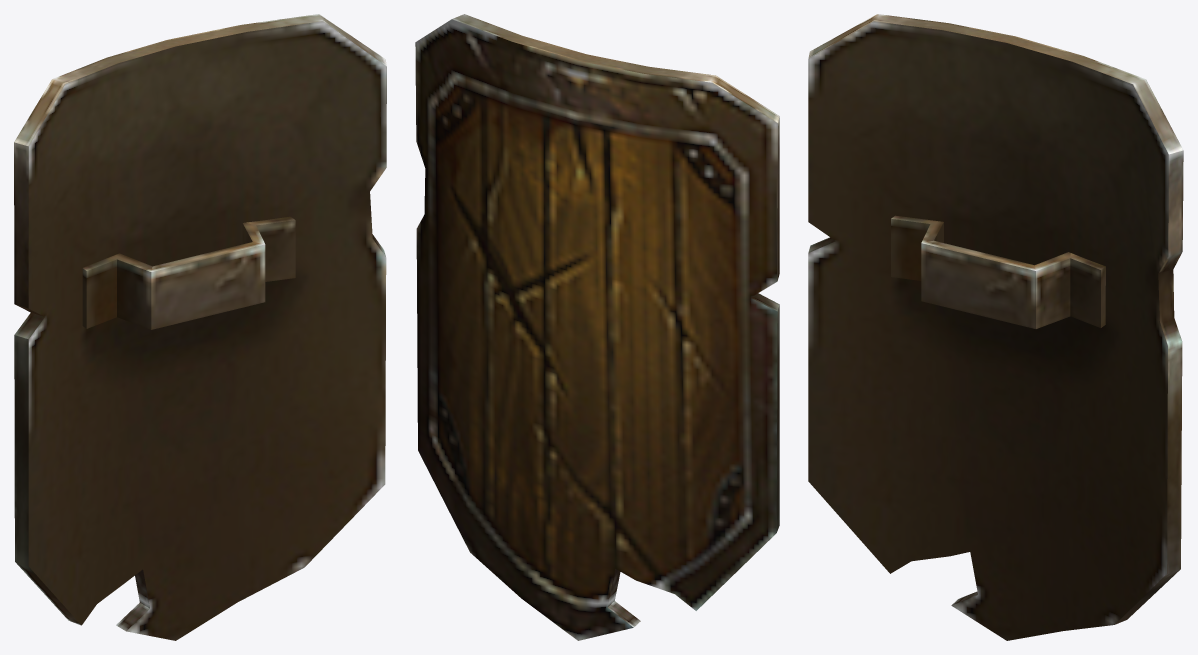
Rendered from Stage_ShaMo_WuQi014.FBX.
3 views of the same model, side by side, from view 1: azimuth 30°, elevation 25°; view 2: azimuth 150°, elevation 25°; view 3: azimuth 330°, elevation 25° (orthographic). The views are drawn at different scales.
Visible parts, largest first — view 1: Stage_ShaMo_WuQi014; view 2: Stage_ShaMo_WuQi014; view 3: Stage_ShaMo_WuQi014.
Part boxes in pixels (box(x1,y1,x2,y2)): Stage_ShaMo_WuQi014: box(14, 14, 386, 640); Stage_ShaMo_WuQi014: box(415, 14, 779, 640); Stage_ShaMo_WuQi014: box(808, 14, 1183, 640).
Bounding box in the file's own units: 67.4 × 103 × 12.32.
